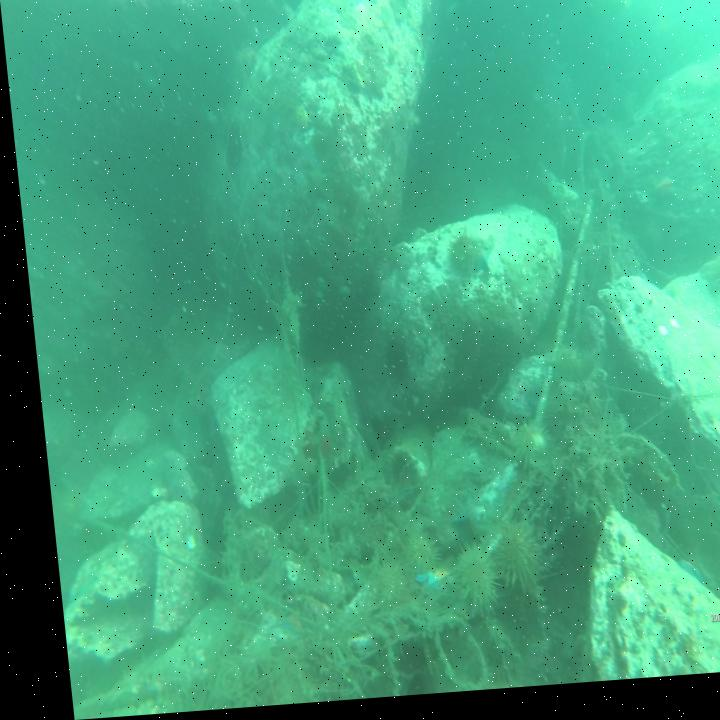echinus: (477, 525, 529, 609), (440, 552, 485, 622), (505, 424, 544, 478), (358, 566, 394, 616), (372, 340, 406, 392), (440, 237, 477, 284), (387, 535, 425, 572), (697, 257, 720, 315)
starfish: (665, 561, 691, 599), (264, 614, 294, 644), (649, 182, 673, 213), (409, 575, 438, 599)
